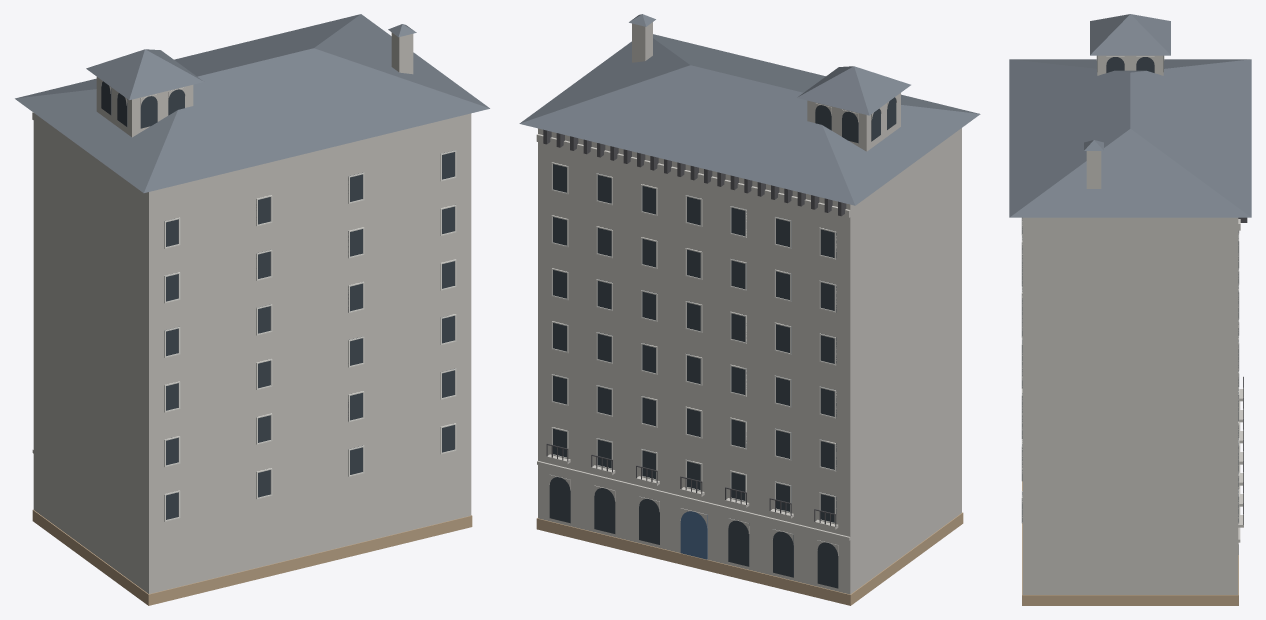
The model's file is ca_classical7.glb.
3 views of the same model, side by side, from view 1: azimuth 30°, elevation 25°; view 2: azimuth 150°, elevation 25°; view 3: azimuth 270°, elevation 25° (orthographic). The views are drawn at different scales.
Parts seen in each view (by area): view 1: ca_classical7; view 2: ca_classical7; view 3: ca_classical7.
Part boxes in pixels (<box>): ca_classical7: <box>15,14,489,605</box>; ca_classical7: <box>519,14,980,605</box>; ca_classical7: <box>1009,14,1251,605</box>.
Bounding box in the file's own units: 22.6 × 31.2 × 14.6.
